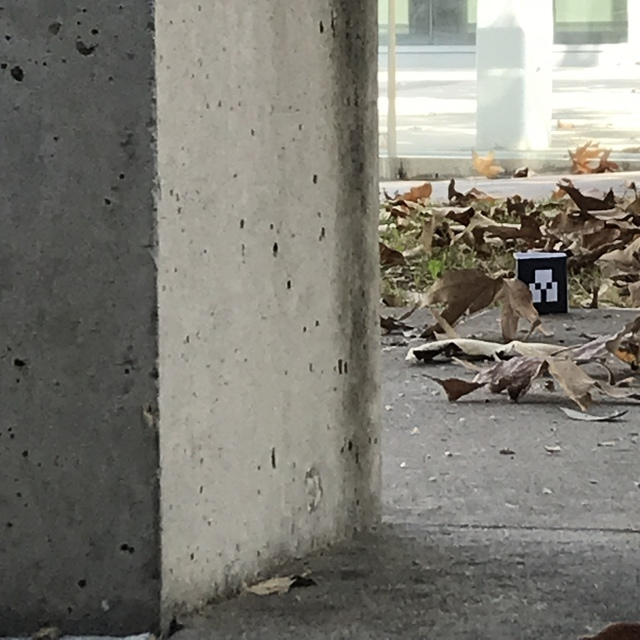ARTag: (511, 250, 569, 318)
